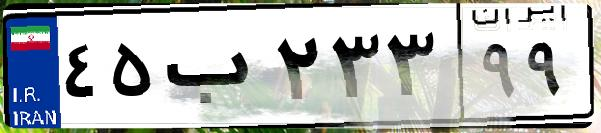2: (270, 28, 330, 110)
3: (385, 28, 445, 110), (330, 28, 385, 110)
4: (57, 26, 110, 100)
5: (110, 28, 158, 98)
9: (475, 38, 525, 113), (525, 38, 570, 115)
ب: (158, 20, 270, 120)
